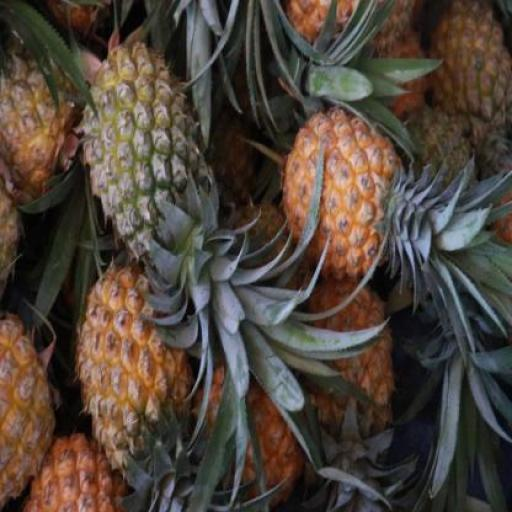------------------------------: (83, 35, 214, 258), (0, 16, 76, 197)
Pineapple - v8 v1: (78, 266, 195, 464), (280, 108, 402, 291), (0, 305, 63, 501)
